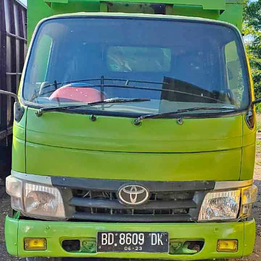plate: (97, 231, 171, 253)
